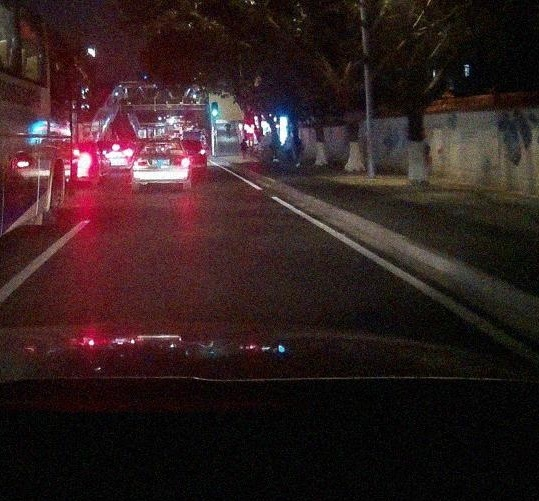L_light: (134, 159, 150, 168)
R_light: (172, 158, 190, 167)
T_light: (158, 143, 167, 146)
night-right: (131, 139, 190, 192)
